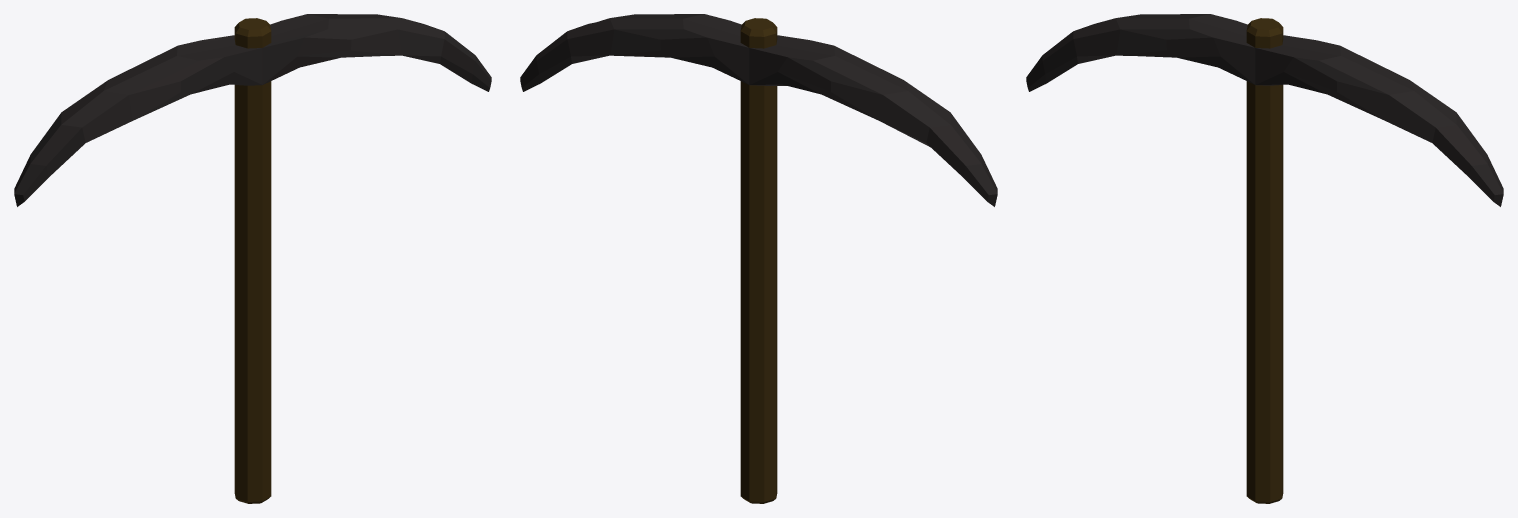
File: Pickaxe.fbx
3 renders of one model, left to right at view 1: azimuth 30°, elevation 25°; view 2: azimuth 150°, elevation 25°; view 3: azimuth 330°, elevation 25°, orthographic.
Visible parts, largest first — view 1: Pickaxe; view 2: Pickaxe; view 3: Pickaxe.
Boxes of the visible parts, x1,y1,x2,y2 form: Pickaxe: (14,14,491,503); Pickaxe: (520,14,997,503); Pickaxe: (1026,14,1503,503).
Size of the model in its own units: 350 by 331 by 35.97.
